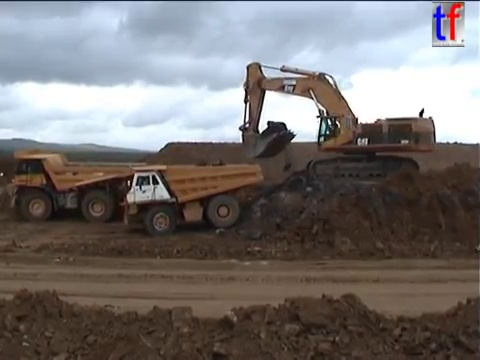excavator: (235, 59, 438, 187)
truck: (1, 147, 147, 224), (119, 162, 263, 237)
